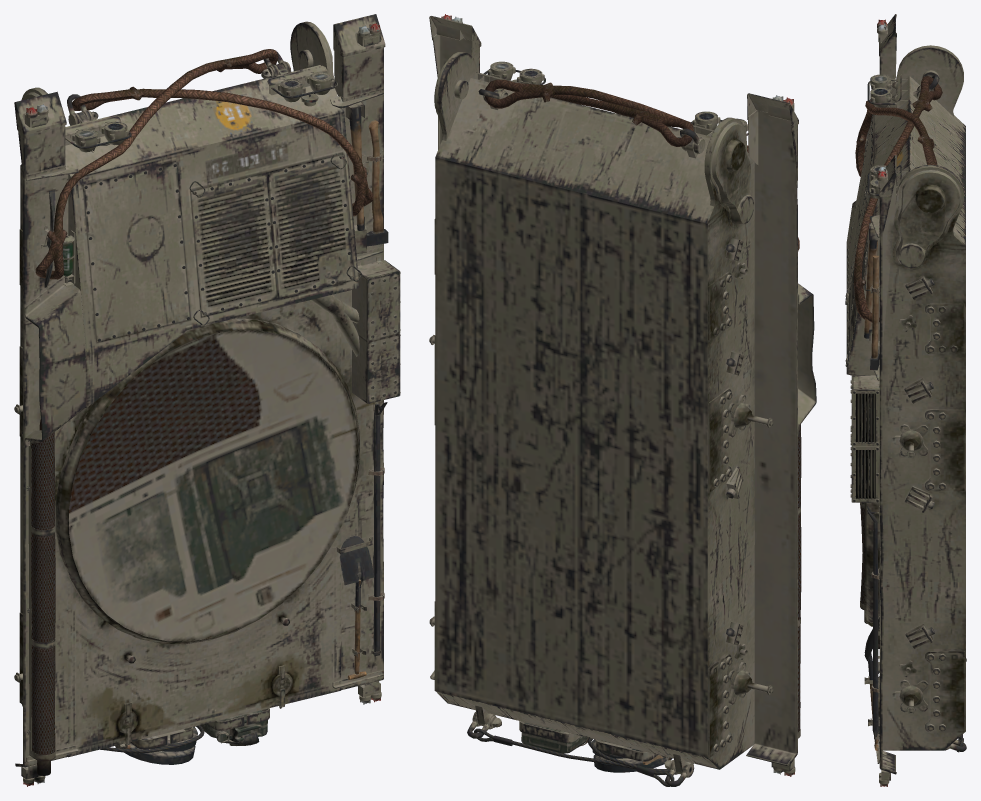
Rendered from Hull.glb.
The picture shows the model from 3 angles, left to right: view 1: azimuth 30°, elevation 25°; view 2: azimuth 150°, elevation 25°; view 3: azimuth 270°, elevation 25°; orthographic projection. The views are drawn at different scales.
Visible parts, largest first — view 1: set_0_group_0; view 2: set_0_group_0; view 3: set_0_group_0.
Boxes of the visible parts, left/top/right/bottom form: set_0_group_0: left=14, top=14, right=400, bottom=786; set_0_group_0: left=429, top=14, right=816, bottom=786; set_0_group_0: left=845, top=14, right=966, bottom=786.
Size of the model in its own units: 2.49 by 4.58 by 0.8008.
1 material, 1 textured.
